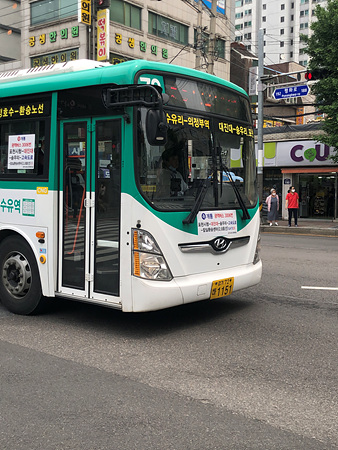entrance: (59, 117, 128, 303)
